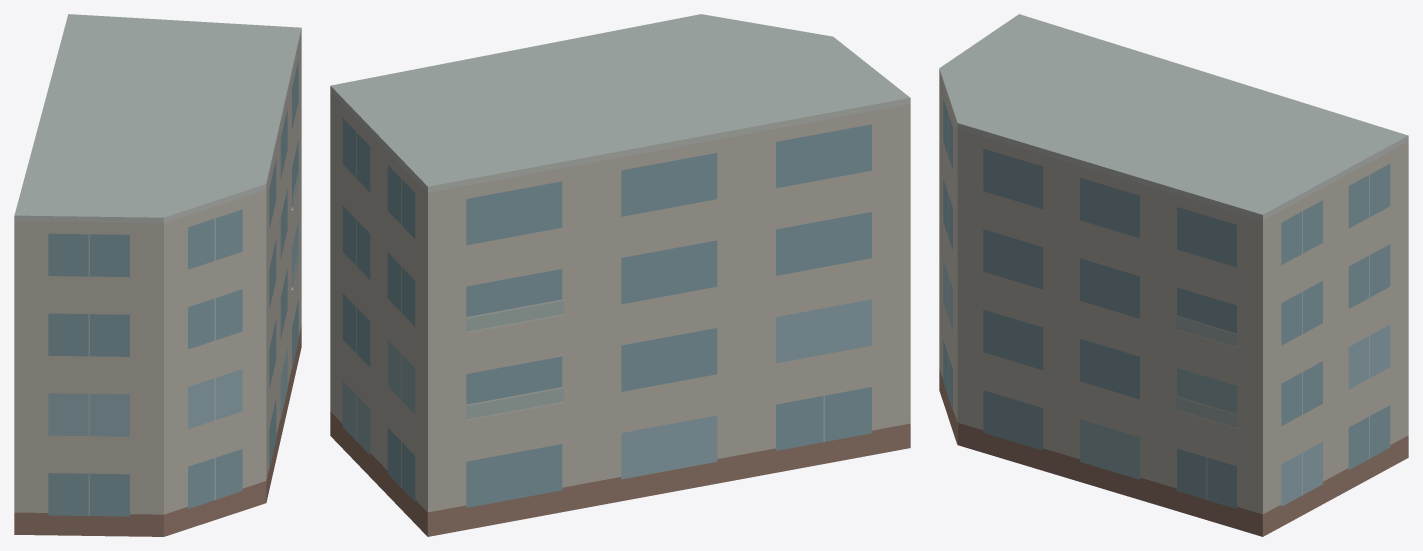
File: survey-upis-32860720.glb
3 views of the same model, side by side, from view 1: azimuth 30°, elevation 25°; view 2: azimuth 150°, elevation 25°; view 3: azimuth 270°, elevation 25° (orthographic). The views are drawn at different scales.
Visible parts, largest first — view 1: survey-upis-32860720.tmp; view 2: survey-upis-32860720.tmp; view 3: survey-upis-32860720.tmp.
Boxes of the visible parts, <box> form: survey-upis-32860720.tmp: <box>14,14,301,536</box>; survey-upis-32860720.tmp: <box>330,14,910,536</box>; survey-upis-32860720.tmp: <box>939,14,1408,536</box>.
Size of the model in its own units: 18.33 by 13.7 by 18.1.
